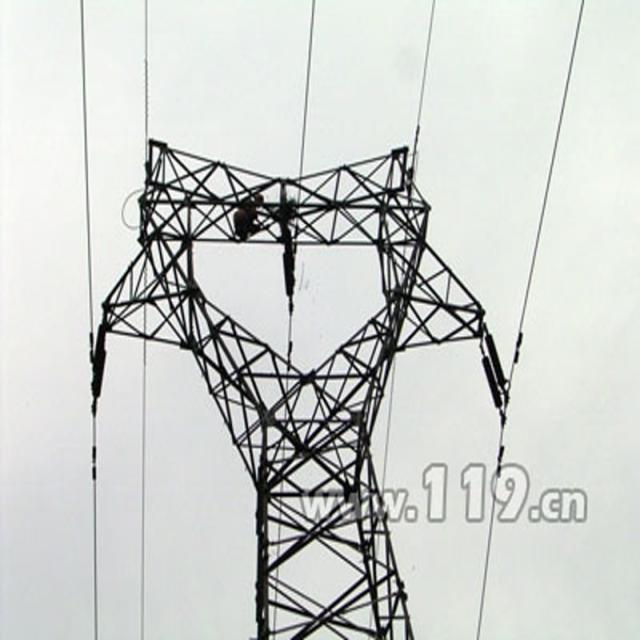non-critical vegetation: (78, 125, 548, 632)
